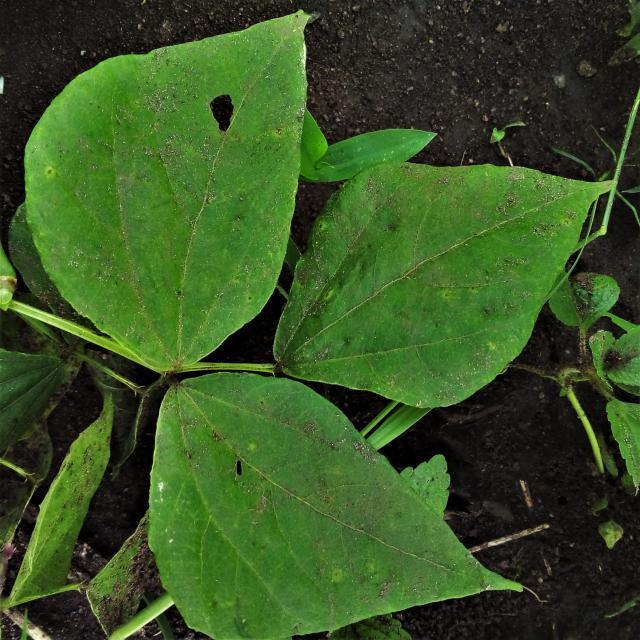hawar: (189, 386, 481, 598), (299, 189, 536, 386), (115, 63, 305, 199), (55, 199, 223, 312)
